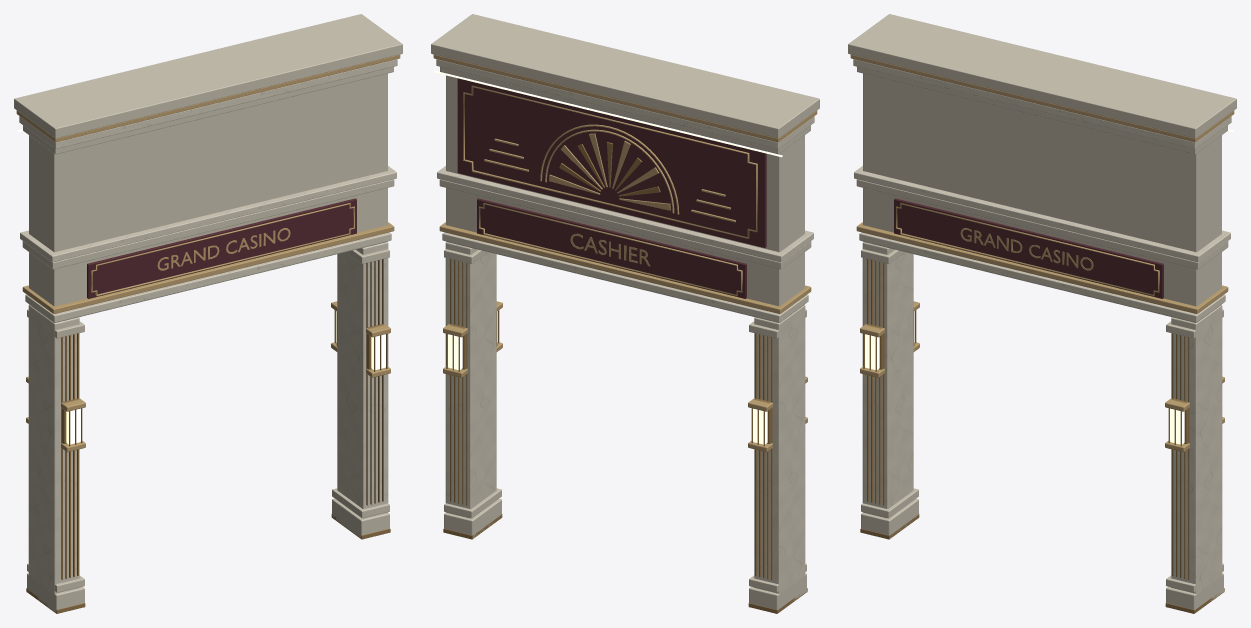
The model's file is casino-deco-portal-cashier.glb.
3 renders of one model, left to right at view 1: azimuth 30°, elevation 25°; view 2: azimuth 150°, elevation 25°; view 3: azimuth 330°, elevation 25°, orthographic.
Parts seen in each view (by area): view 1: portal-cashier / Entry carved limestone, portal-cashier / Entry ivory marble, portal-cashier / Entry smoky oxblood lacquer, portal-cashier / Entry champagne brass, portal-cashier / Entry aged bronze, portal-cashier / Entry warm opal; view 2: portal-cashier / Entry carved limestone, portal-cashier / Entry smoky oxblood lacquer, portal-cashier / Entry ivory marble, portal-cashier / Entry champagne brass, portal-cashier / Entry aged bronze, portal-cashier / Entry warm opal; view 3: portal-cashier / Entry carved limestone, portal-cashier / Entry ivory marble, portal-cashier / Entry smoky oxblood lacquer, portal-cashier / Entry champagne brass, portal-cashier / Entry aged bronze, portal-cashier / Entry warm opal.
Part boxes in pixels (x1,y1,x2,y2): portal-cashier / Entry carved limestone: (14,14,402,612); portal-cashier / Entry ivory marble: (19,59,397,593); portal-cashier / Entry smoky oxblood lacquer: (87,198,356,298); portal-cashier / Entry champagne brass: (16,54,400,452); portal-cashier / Entry aged bronze: (26,259,390,613); portal-cashier / Entry warm opal: (17,129,385,444); portal-cashier / Entry carved limestone: (431,14,819,609); portal-cashier / Entry smoky oxblood lacquer: (457,78,766,298); portal-cashier / Entry ivory marble: (436,59,814,593); portal-cashier / Entry champagne brass: (433,54,817,452); portal-cashier / Entry aged bronze: (443,142,807,613); portal-cashier / Entry warm opal: (434,70,782,444); portal-cashier / Entry carved limestone: (848,14,1236,609); portal-cashier / Entry ivory marble: (853,59,1231,593); portal-cashier / Entry smoky oxblood lacquer: (894,198,1163,298); portal-cashier / Entry champagne brass: (850,54,1234,452); portal-cashier / Entry aged bronze: (860,259,1224,613); portal-cashier / Entry warm opal: (865,129,1233,444).
Bounding box in the file's own units: 5.04 × 6.8 × 1.04.
Materials: 6 (1 with a texture image).
